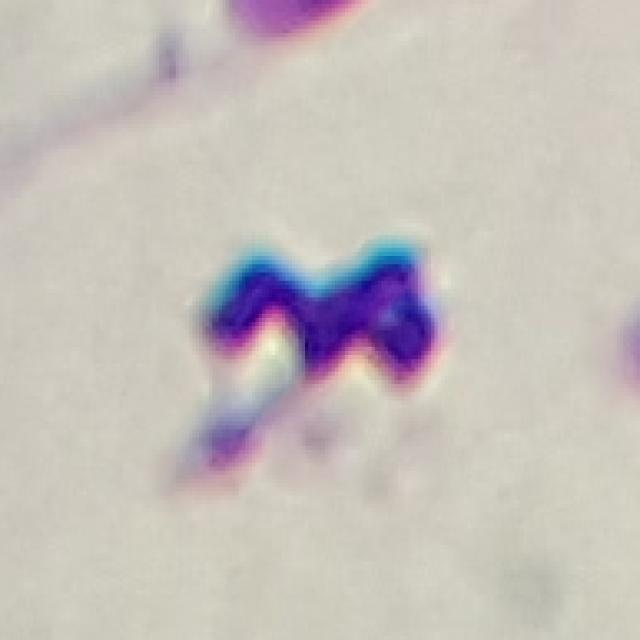non-sperm: (184, 224, 447, 468)
